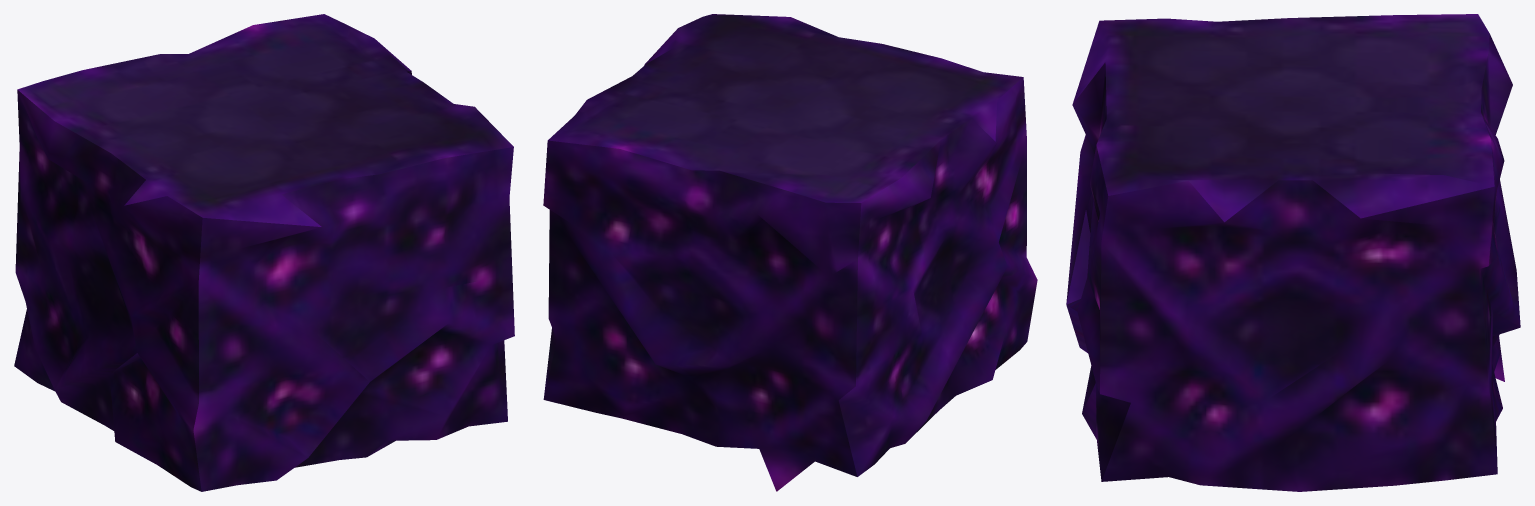
Rendered from b_abimes_mur_2.glb.
3 views of the same model, side by side, from view 1: azimuth 30°, elevation 25°; view 2: azimuth 150°, elevation 25°; view 3: azimuth 270°, elevation 25° (orthographic). The views are drawn at different scales.
Parts seen in each view (by area): view 1: geometry_0; view 2: geometry_0; view 3: geometry_0.
Part boxes in pixels (x1,y1,x2,y2): geometry_0: [14, 14, 514, 491]; geometry_0: [543, 14, 1037, 491]; geometry_0: [1066, 14, 1520, 491].
Size of the model in its own units: 1 by 0.8057 by 1.
1 material, 1 textured.
